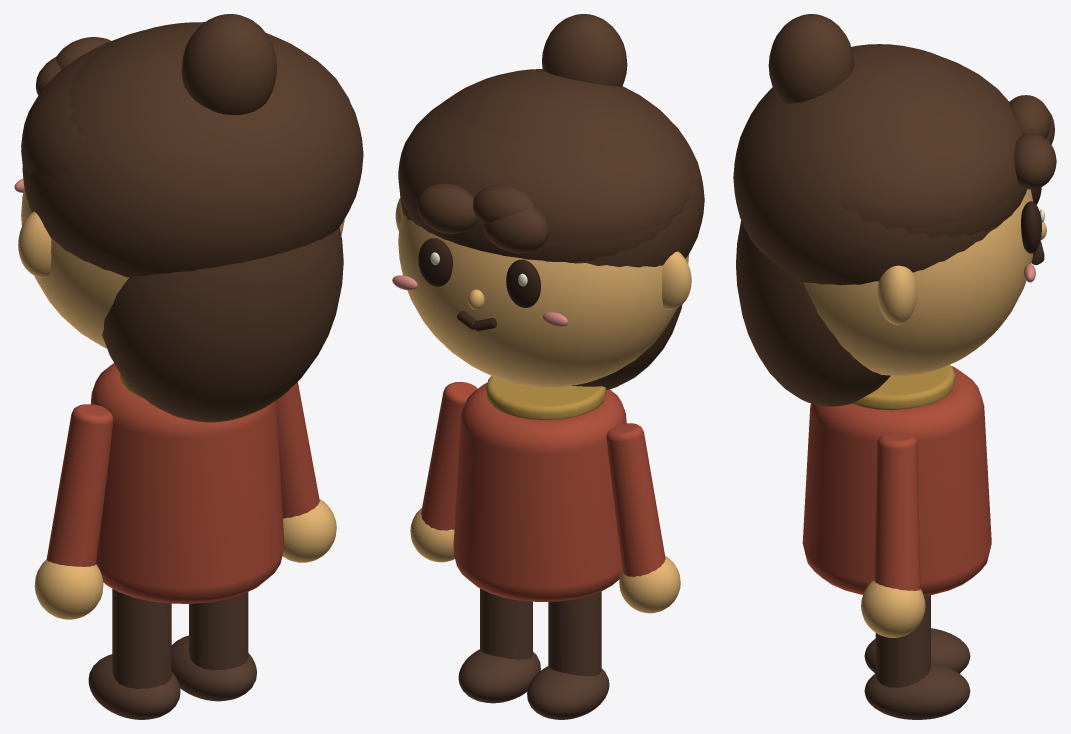
File: character_proxy.glb
The picture shows the model from 3 angles, left to right: view 1: azimuth 30°, elevation 25°; view 2: azimuth 150°, elevation 25°; view 3: azimuth 270°, elevation 25°; orthographic projection. The views are drawn at different scales.
Visible parts, largest first — view 1: Hair03, Torso, Hair03_fall, Hair02_bun, ArmL, LegL, Head, Hair02, LegR, ArmR, HandL, ShoeL (+5 smaller); view 2: Torso, Head, Hair03, Hair02, Hair00, ArmL, Hair02_bun, ArmR, LegL, Collar, ShoeL, LegR (+10 smaller); view 3: Hair03, Torso, Head, Hair02, Hair03_fall, ArmR, Hair02_bun, Hair00, ShoeR, LegR, HandR, Collar (+5 smaller).
Boxes of the visible parts, bbox=[...] form: Hair03: bbox=[22, 22, 363, 277]; Torso: bbox=[90, 363, 284, 603]; Hair03_fall: bbox=[102, 227, 343, 422]; Hair02_bun: bbox=[181, 14, 276, 114]; ArmL: bbox=[46, 404, 113, 566]; LegL: bbox=[112, 588, 171, 688]; Head: bbox=[21, 188, 344, 348]; Hair02: bbox=[21, 53, 350, 178]; LegR: bbox=[189, 592, 248, 670]; ArmR: bbox=[276, 382, 319, 518]; HandL: bbox=[34, 559, 103, 619]; ShoeL: bbox=[88, 654, 180, 719]; Torso: bbox=[453, 382, 626, 601]; Head: bbox=[398, 211, 688, 387]; Hair03: bbox=[399, 69, 704, 267]; Hair02: bbox=[398, 101, 694, 240]; Hair00: bbox=[398, 105, 671, 262]; ArmL: bbox=[606, 423, 665, 577]; Hair02_bun: bbox=[542, 14, 627, 86]; ArmR: bbox=[421, 382, 477, 530]; LegL: bbox=[548, 591, 601, 676]; Collar: bbox=[485, 376, 606, 420]; ShoeL: bbox=[527, 666, 609, 719]; LegR: bbox=[480, 588, 532, 659]; Hair03: bbox=[733, 44, 997, 285]; Torso: bbox=[802, 366, 991, 595]; Head: bbox=[803, 189, 1033, 375]; Hair02: bbox=[839, 67, 1022, 228]; Hair03_fall: bbox=[736, 220, 890, 406]; ArmR: bbox=[874, 433, 920, 590]; Hair02_bun: bbox=[768, 14, 854, 103]; Hair00: bbox=[903, 58, 1026, 237]; ShoeR: bbox=[864, 663, 970, 719]; LegR: bbox=[875, 595, 930, 687]; HandR: bbox=[861, 580, 925, 637]; Collar: bbox=[851, 364, 955, 410].
Size of the model in its own units: 0.7 by 1.49 by 0.641.
